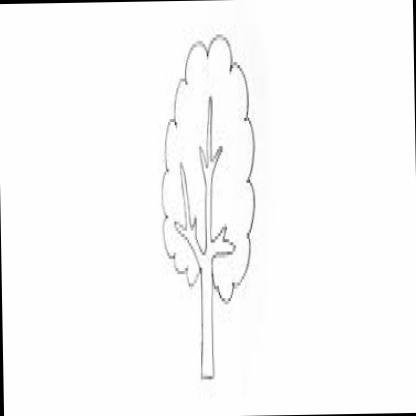branch_sharp: (170, 96, 236, 268)
crown_cloud: (158, 31, 258, 306)
trunk_straight: (197, 296, 217, 356)
